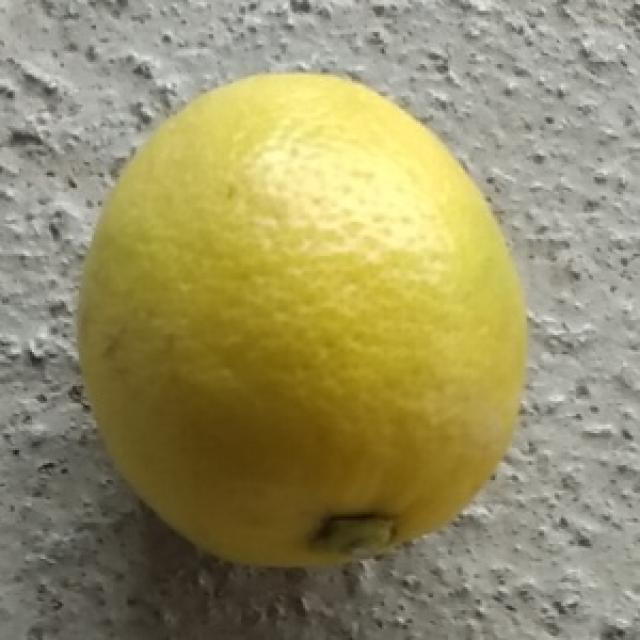Lemon: (76, 70, 532, 574)
